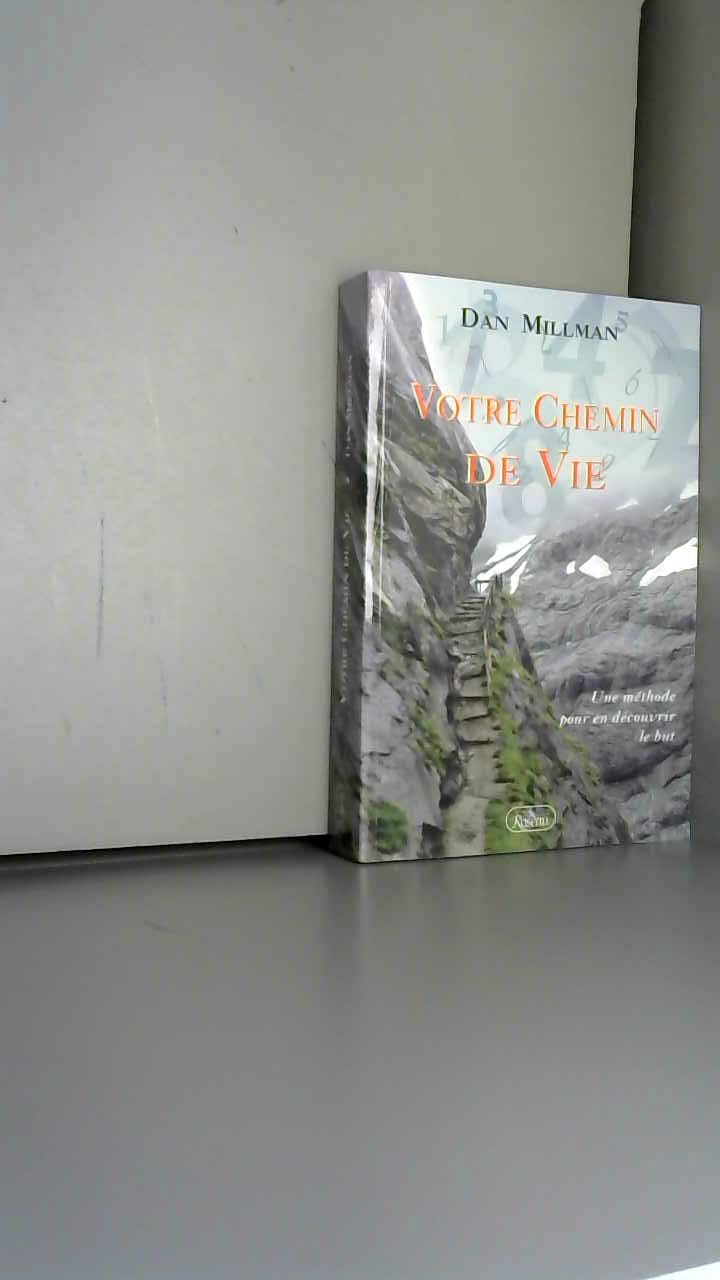book: (300, 240, 720, 915)
